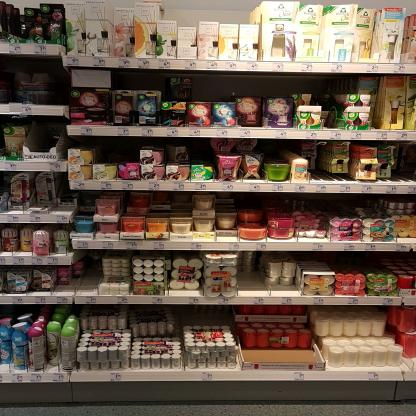Void: (193, 73, 288, 95), (96, 135, 138, 161), (32, 119, 58, 151), (184, 306, 227, 325), (317, 193, 353, 213), (241, 260, 261, 296), (117, 72, 165, 87), (46, 66, 65, 103), (77, 254, 94, 294), (236, 195, 282, 208), (397, 146, 412, 182), (267, 140, 290, 162)
